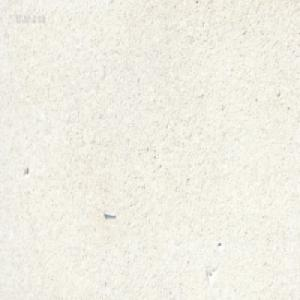Nail: (101, 209, 116, 218)
